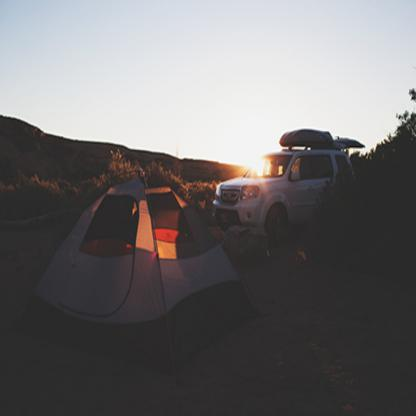car: (212, 127, 366, 236)
